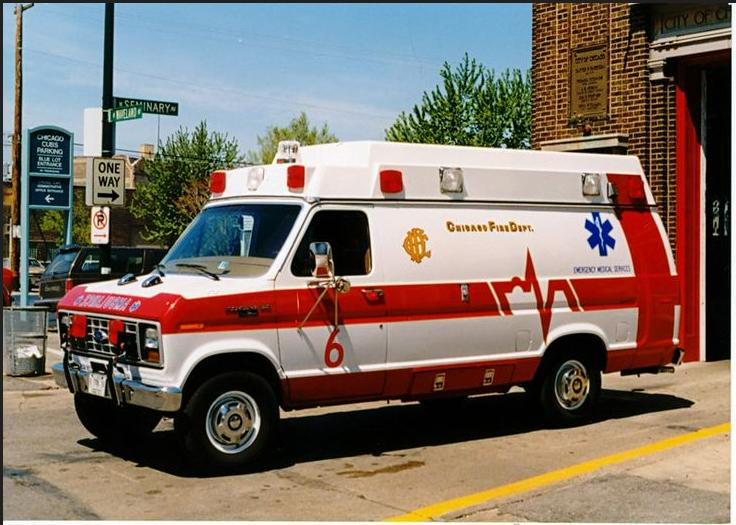ambulance_off: (51, 139, 679, 470)
